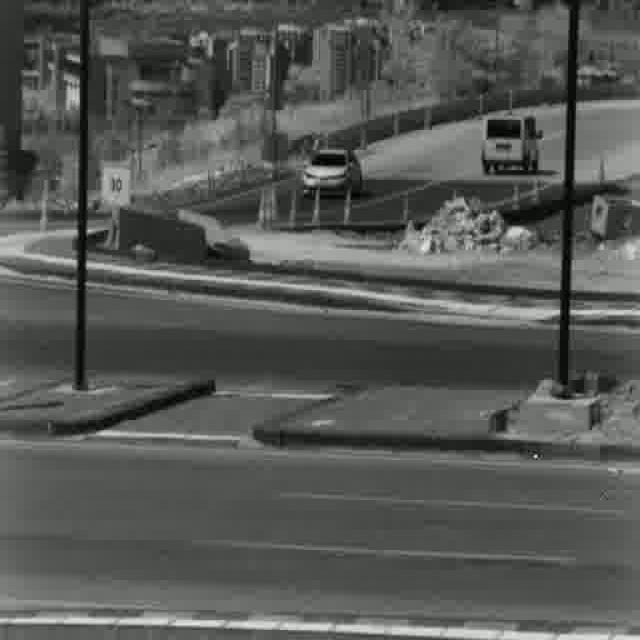Car: (300, 148, 366, 198), (482, 116, 536, 174)
